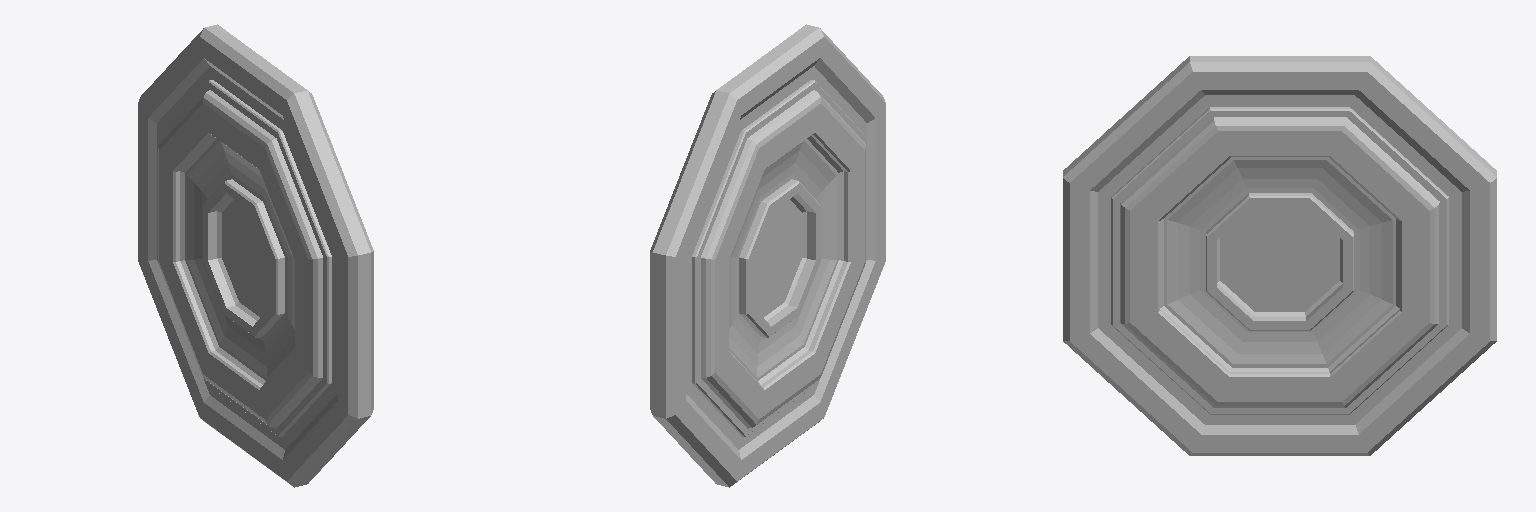
File: DoorStoneBigCircle.obj
3 renders of one model, left to right at view 1: azimuth 30°, elevation 25°; view 2: azimuth 150°, elevation 25°; view 3: azimuth 270°, elevation 25°, orthographic.
Visible parts, largest first — view 1: FrontDoor_Cylinder.007; view 2: FrontDoor_Cylinder.007; view 3: FrontDoor_Cylinder.007.
Part boxes in pixels (left/top/right/bottom): FrontDoor_Cylinder.007: left=138, top=24, right=373, bottom=487; FrontDoor_Cylinder.007: left=650, top=24, right=885, bottom=487; FrontDoor_Cylinder.007: left=1063, top=56, right=1496, bottom=455.
Size of the model in its own units: 0.4317 by 3.7 by 3.7.